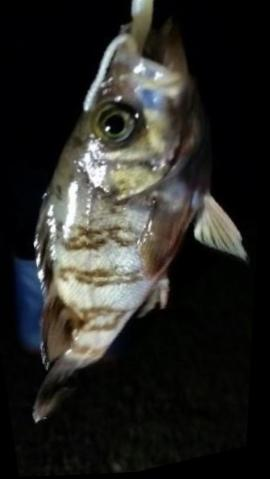fish: (36, 31, 251, 424)
